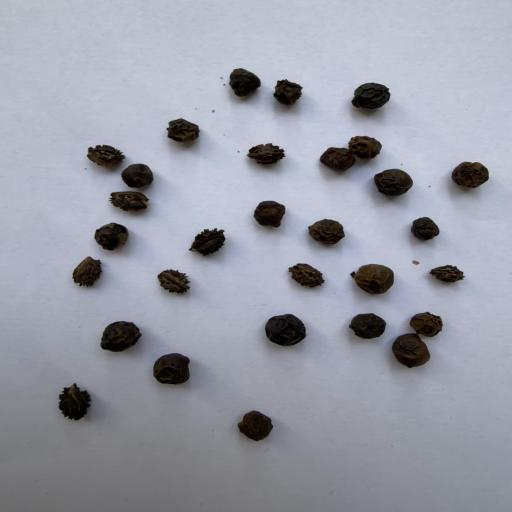Black_pepper: (147, 353, 201, 390), (258, 312, 307, 349), (349, 260, 396, 296), (99, 318, 144, 355), (388, 332, 428, 371), (90, 222, 135, 256), (350, 306, 388, 342), (350, 78, 390, 112), (449, 156, 489, 190), (308, 216, 349, 248), (236, 408, 276, 440), (246, 199, 286, 231), (374, 166, 414, 198), (271, 78, 307, 113), (404, 217, 445, 245), (225, 66, 261, 97), (166, 118, 204, 145), (321, 146, 355, 176), (348, 132, 384, 159), (120, 164, 156, 188), (409, 310, 440, 336)
papaya_seed: (48, 380, 102, 428), (178, 222, 234, 261), (66, 255, 110, 296), (240, 138, 289, 171), (104, 189, 166, 215), (284, 257, 329, 292), (418, 262, 473, 290), (155, 264, 195, 302), (84, 140, 122, 170)
